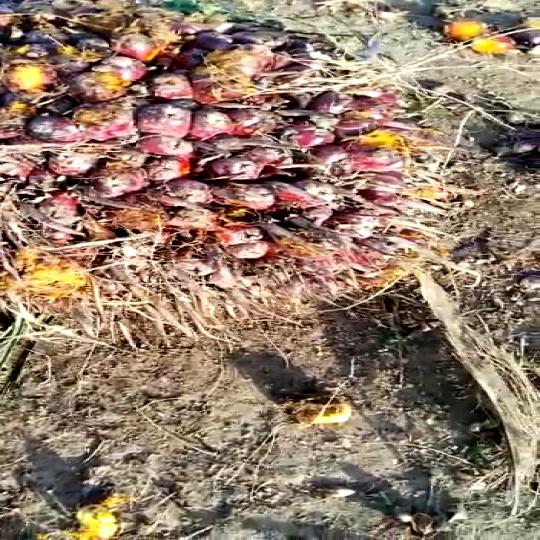masak: (0, 0, 457, 350)
